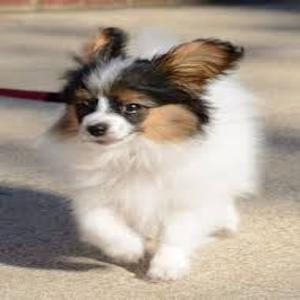yell: (42, 26, 255, 276)
